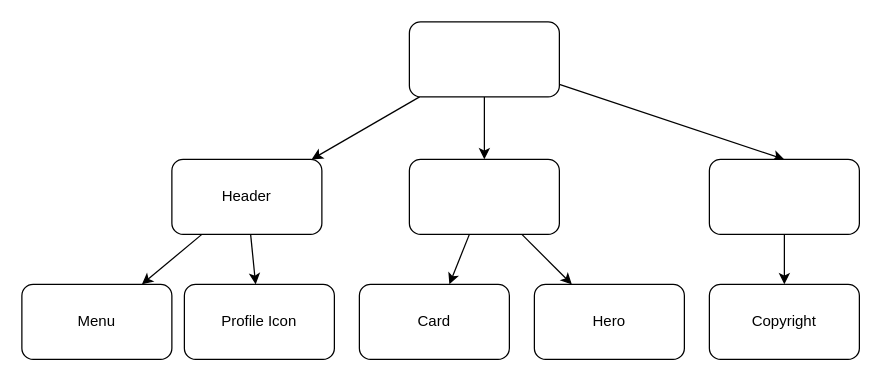
The diagram is 881 pixels wide and 381 high, and some of its shapes have lost their labels. The shapes that lost their labels are listed below. From the top down, each one's box as (x1, y1, x2, y2) in pixels, then its label:
(408, 21, 559, 97): App
(408, 158, 559, 234): Content
(708, 158, 859, 234): Footer
